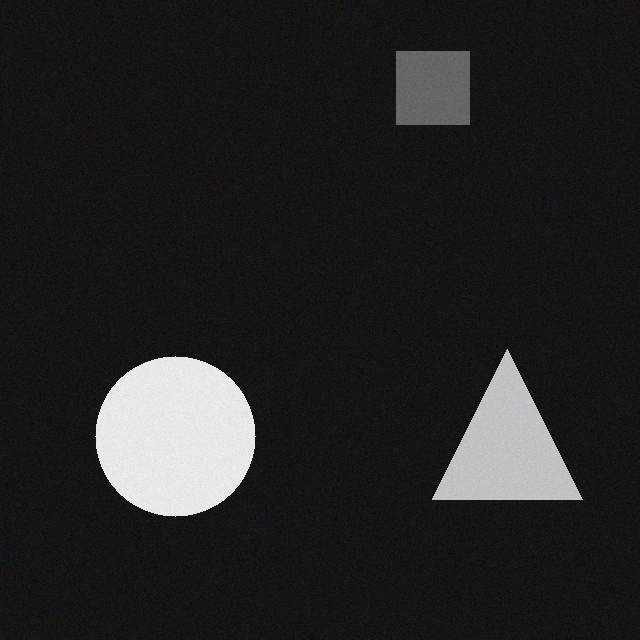circle: (91, 360, 251, 520)
square: (392, 55, 465, 128)
triangle: (428, 353, 578, 503)
